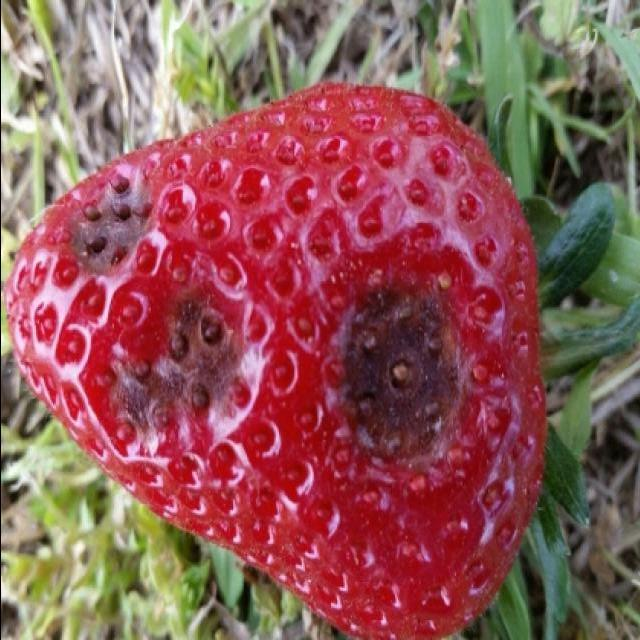Anthracnose Fruit Rot: (2, 80, 547, 640)
